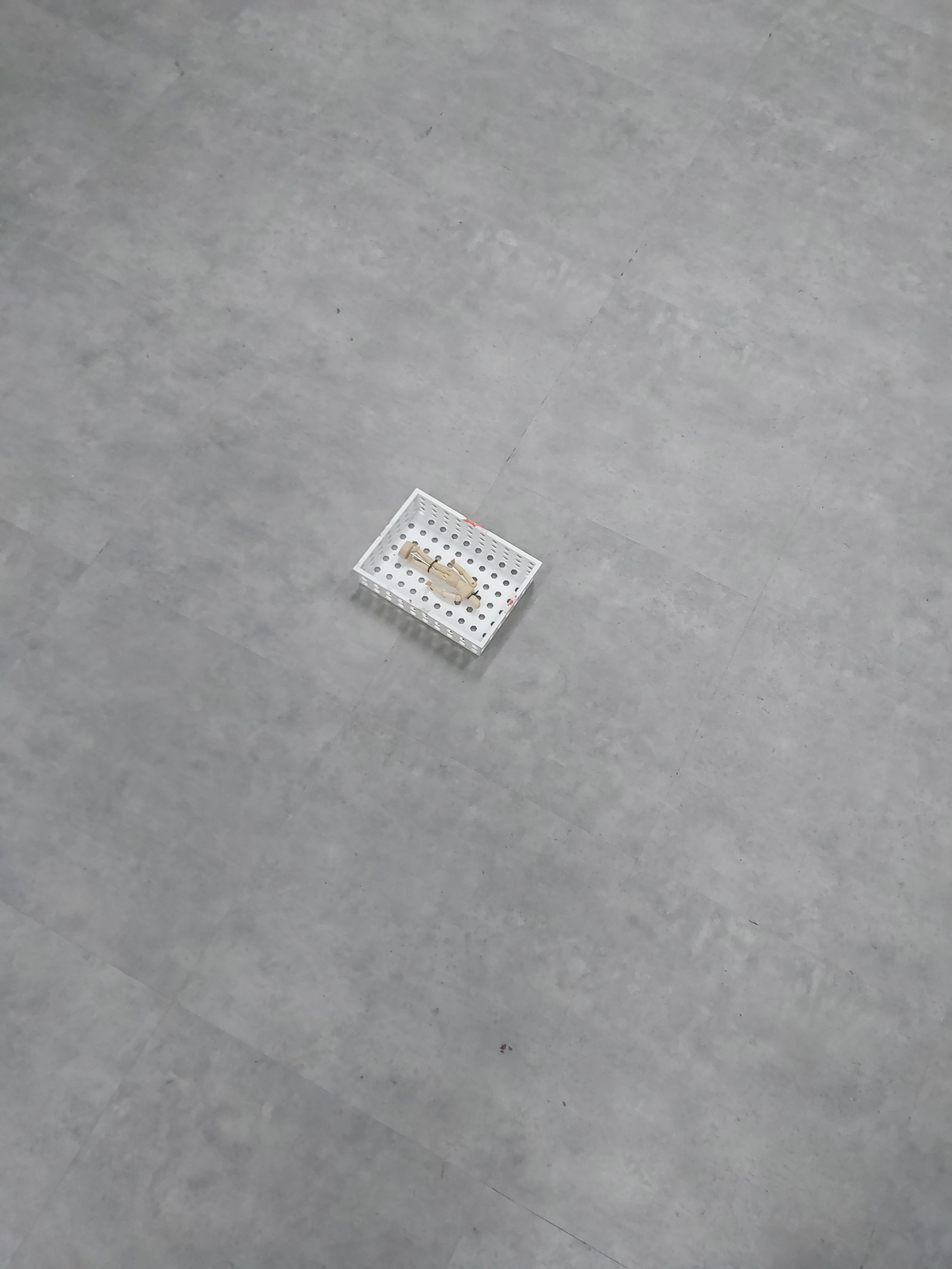basket: (352, 485, 545, 661)
mannequin: (395, 539, 484, 612)
